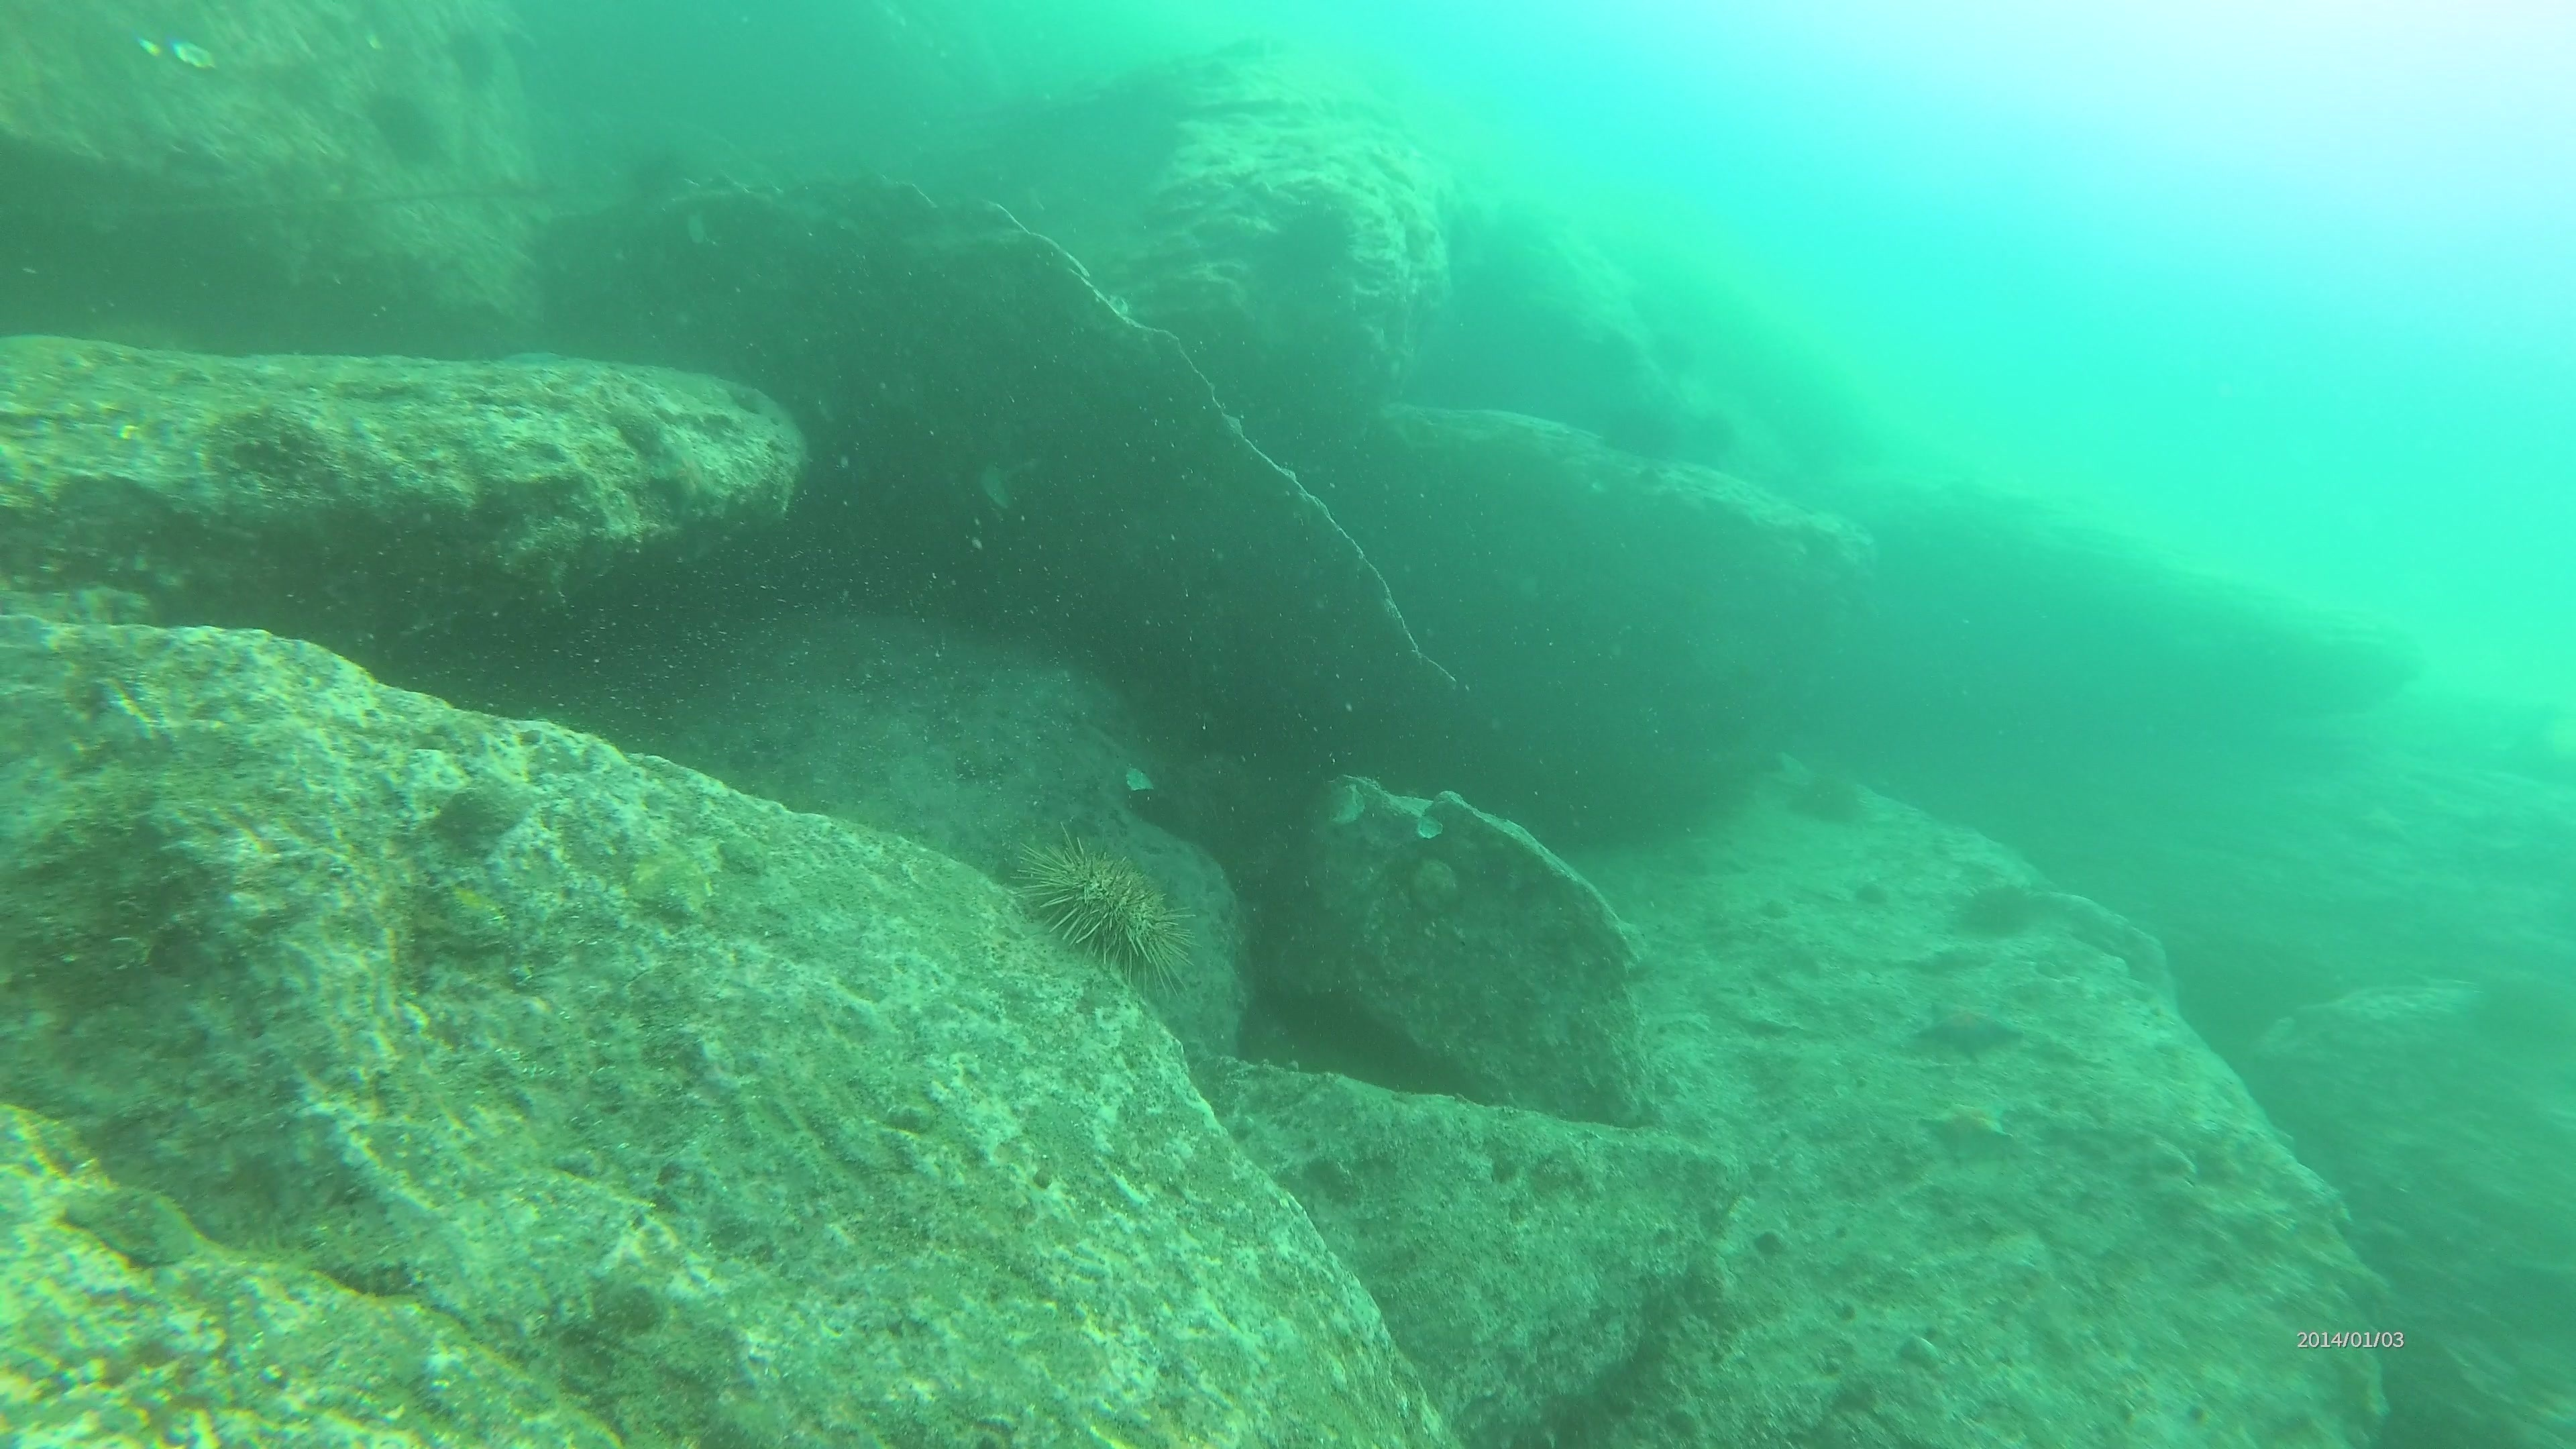echinus: (1010, 826, 1200, 989), (1775, 747, 1877, 833), (359, 81, 449, 173), (1946, 869, 2043, 947), (1263, 196, 1355, 278)
starfish: (1907, 993, 2028, 1063), (1916, 1095, 2020, 1169)
